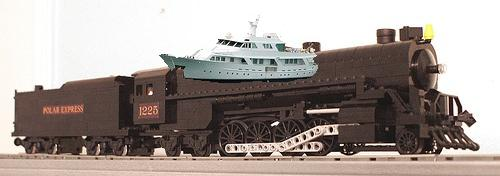tampered: (160, 14, 318, 83)
